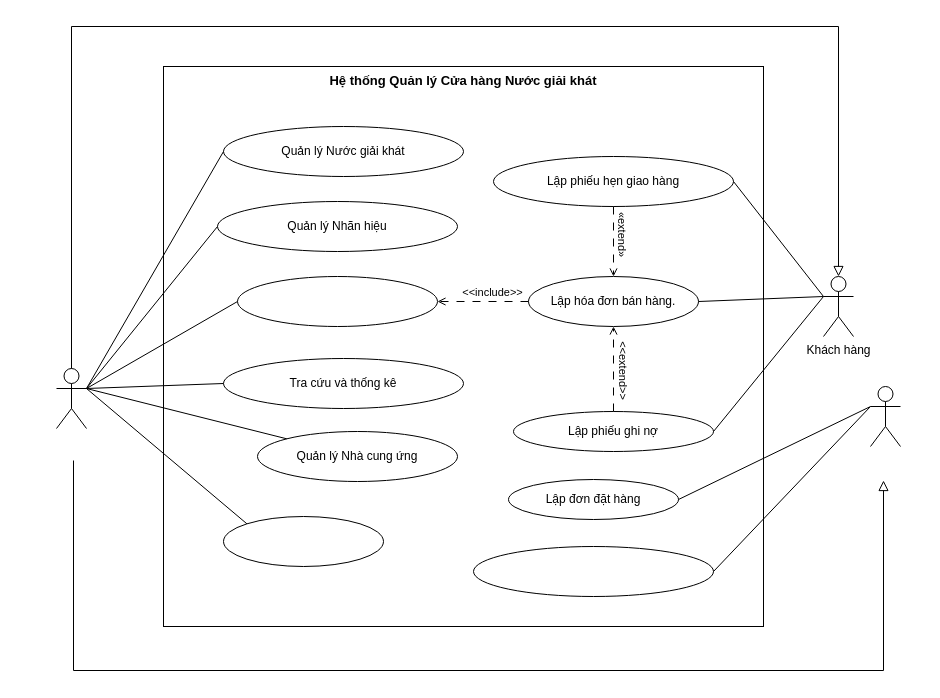
The diagram is 940 pixels wide and 698 high, and some of its shapes have lost their labels. The shapes that lost their labels are listed below. From the top down, each one's centre as x and y in pixels, then its label:
At (x=337, y=301): "Kiểm tra số lượng tồn kho.".
At (x=71, y=398): "Nhân viên cửa hàng".
At (x=885, y=416): "Nhà cung ứng".
At (x=303, y=541): "Quản lý Khách hàng".
At (x=593, y=571): "Cập nhật phiếu giao hàng".
